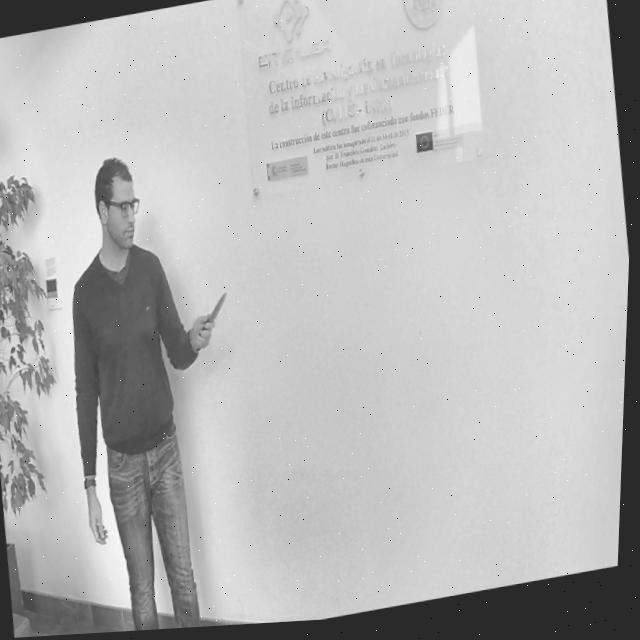knife: (206, 290, 238, 332)
